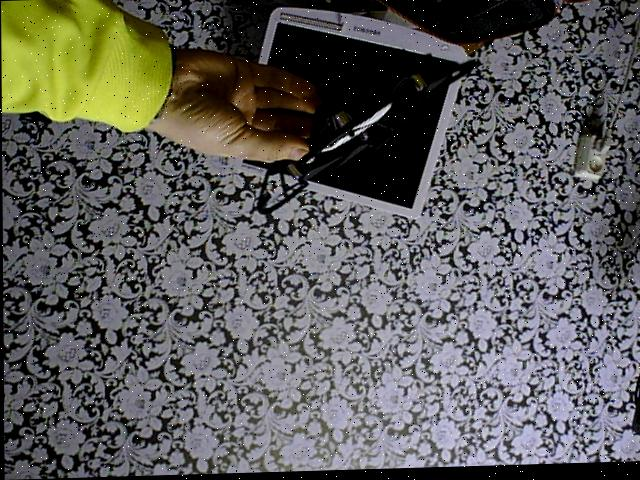drone: (225, 33, 500, 242)
